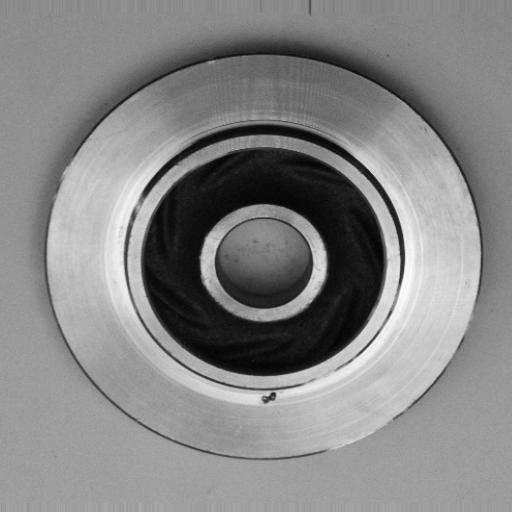crack: (252, 384, 284, 408)
unpolished_casting: (40, 47, 485, 462)
